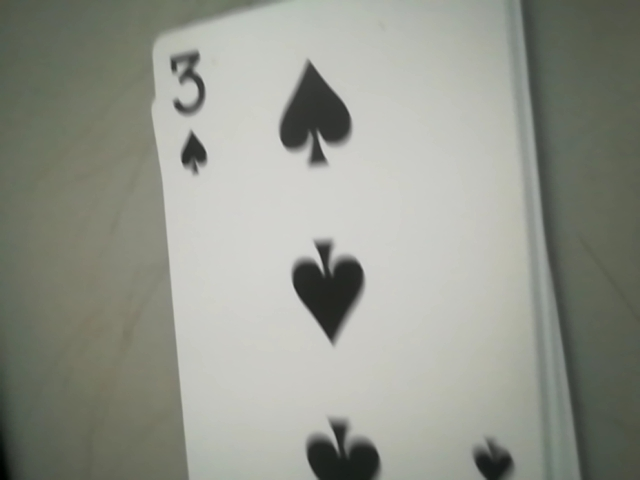ht 3: (148, 45, 241, 189)
